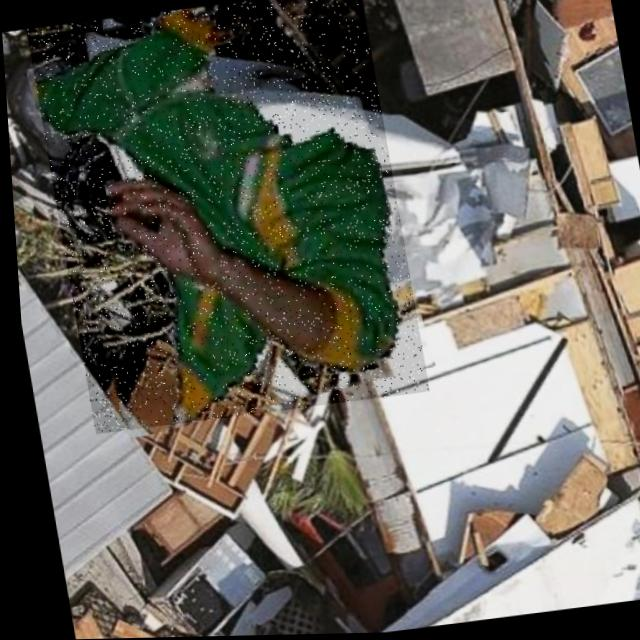Person in Rubble: (23, 0, 425, 435)
